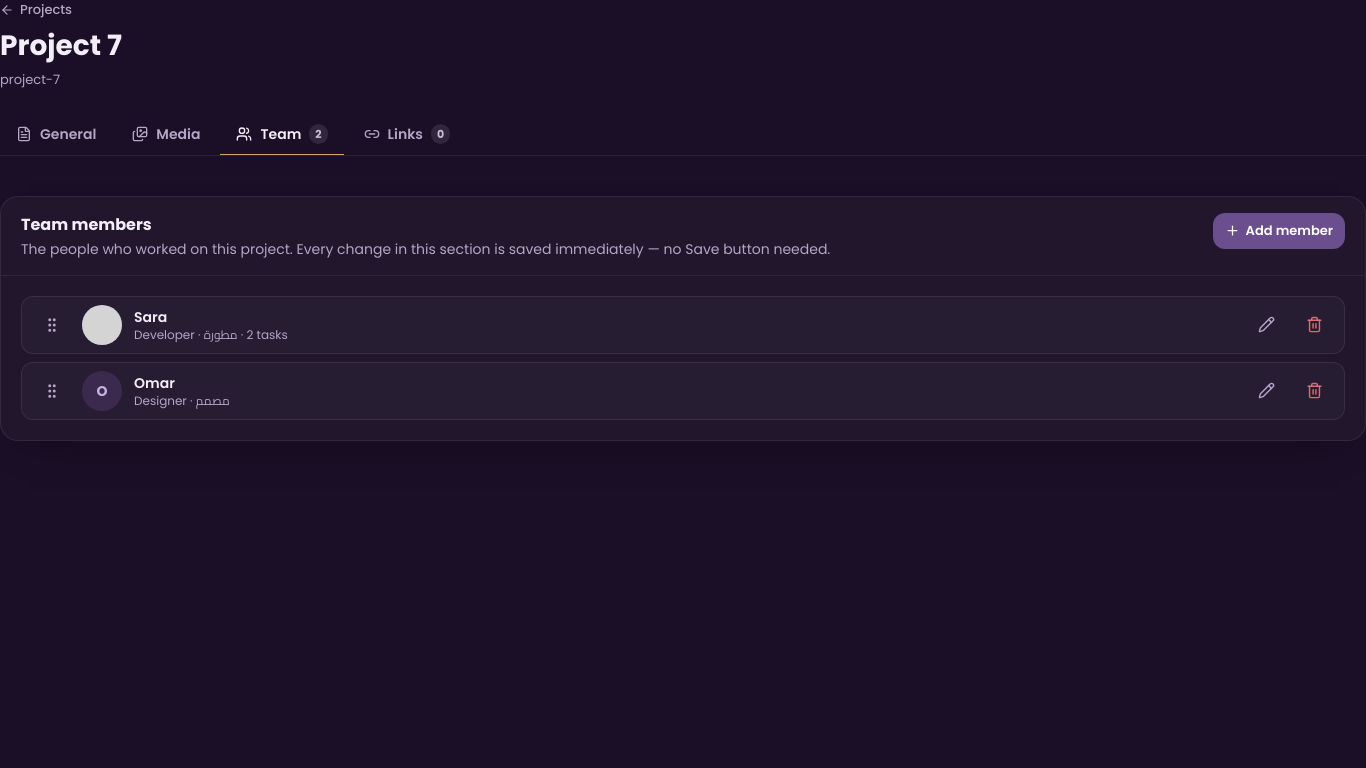
Test: Team tab › add › opens a dialog with the focus on the name, and Cancel / Esc close it without a request
Expected: the list named "Team members" is shown, [21,296,1345,420]
Step 1. Click the button "Add member" → (1279, 231), box [1213,213,1345,249]
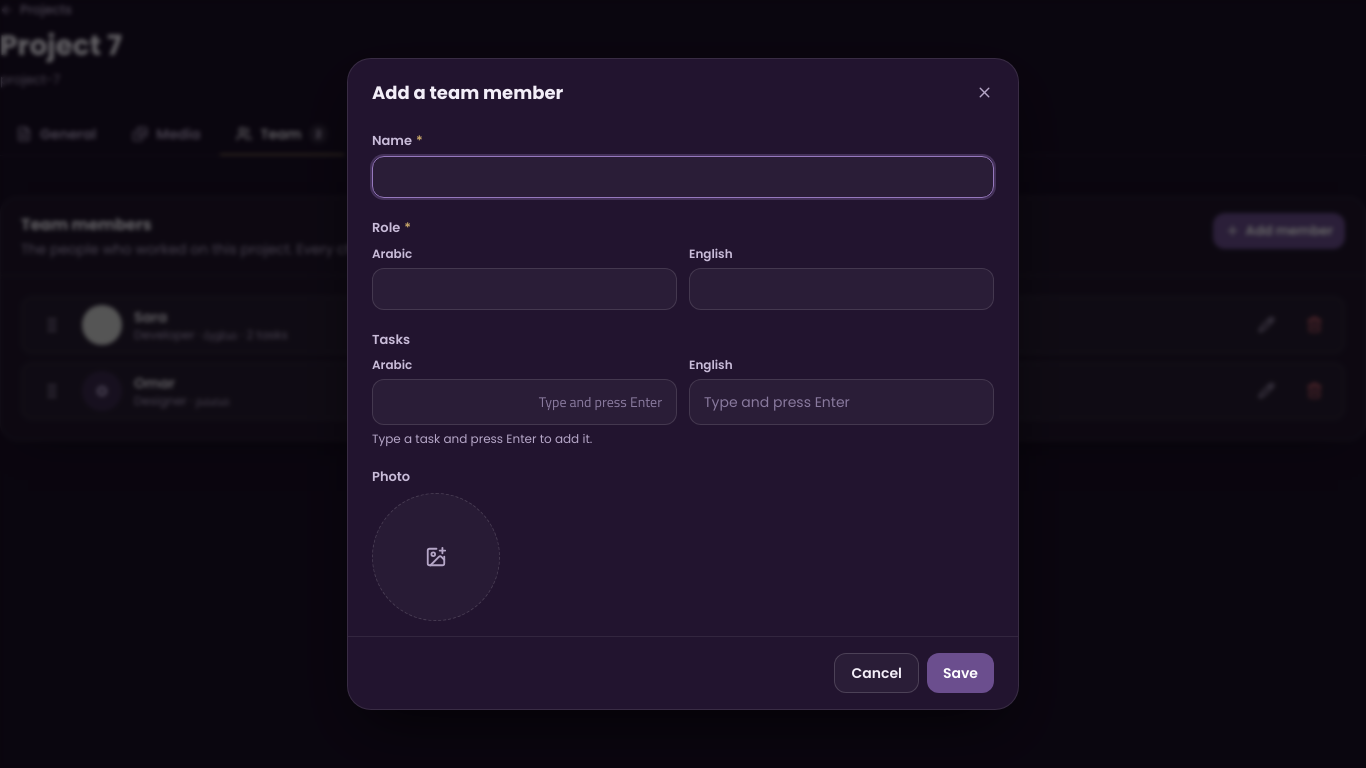
Now the field named "Tasks (Arabic)" is shown, box [383,390,666,414]
Now the element with test id "image-input" is shown, box [372,493,500,621]
Step 2. Click the button "Cancel" → (877, 673), box [834,653,919,693]
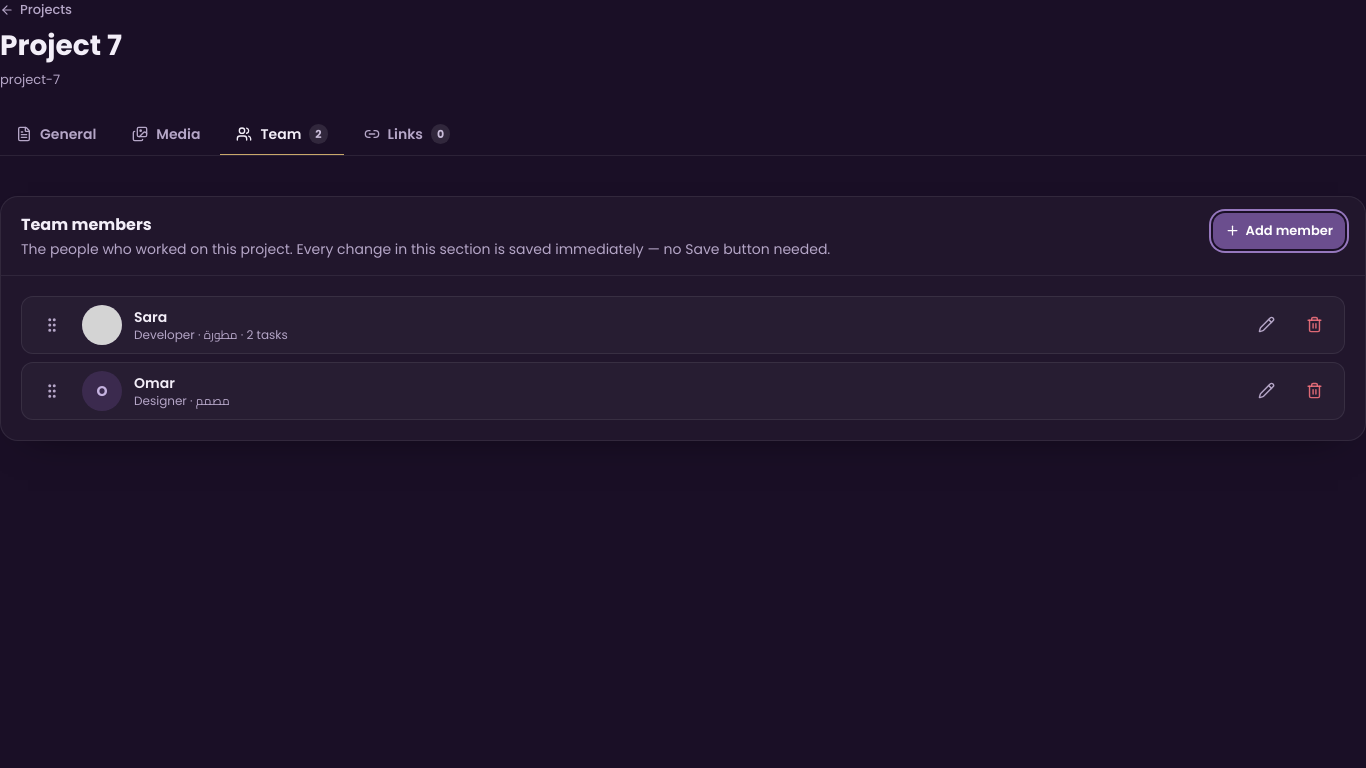
Now the dialog is gone
Step 3. Click the button "Add member" → (1279, 231), box [1213,213,1345,249]
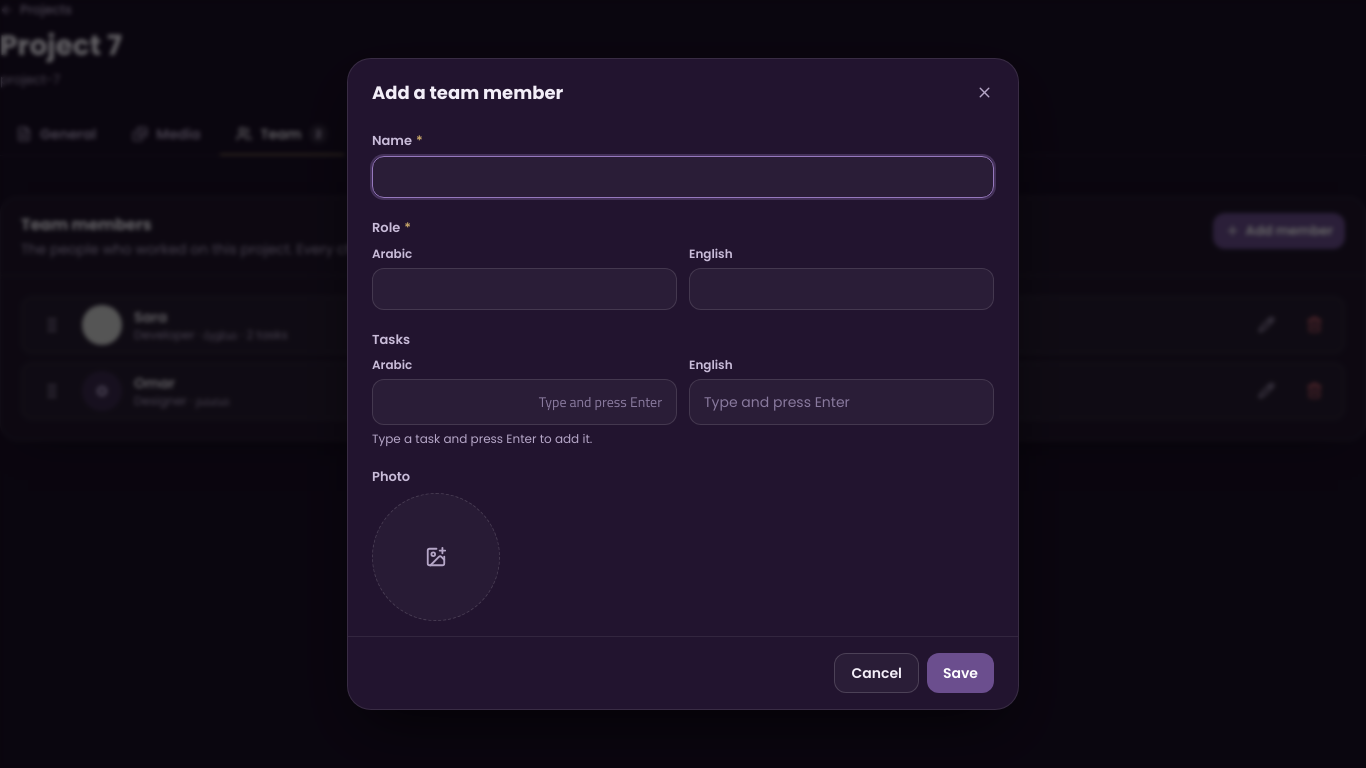
Step 4. Press Escape
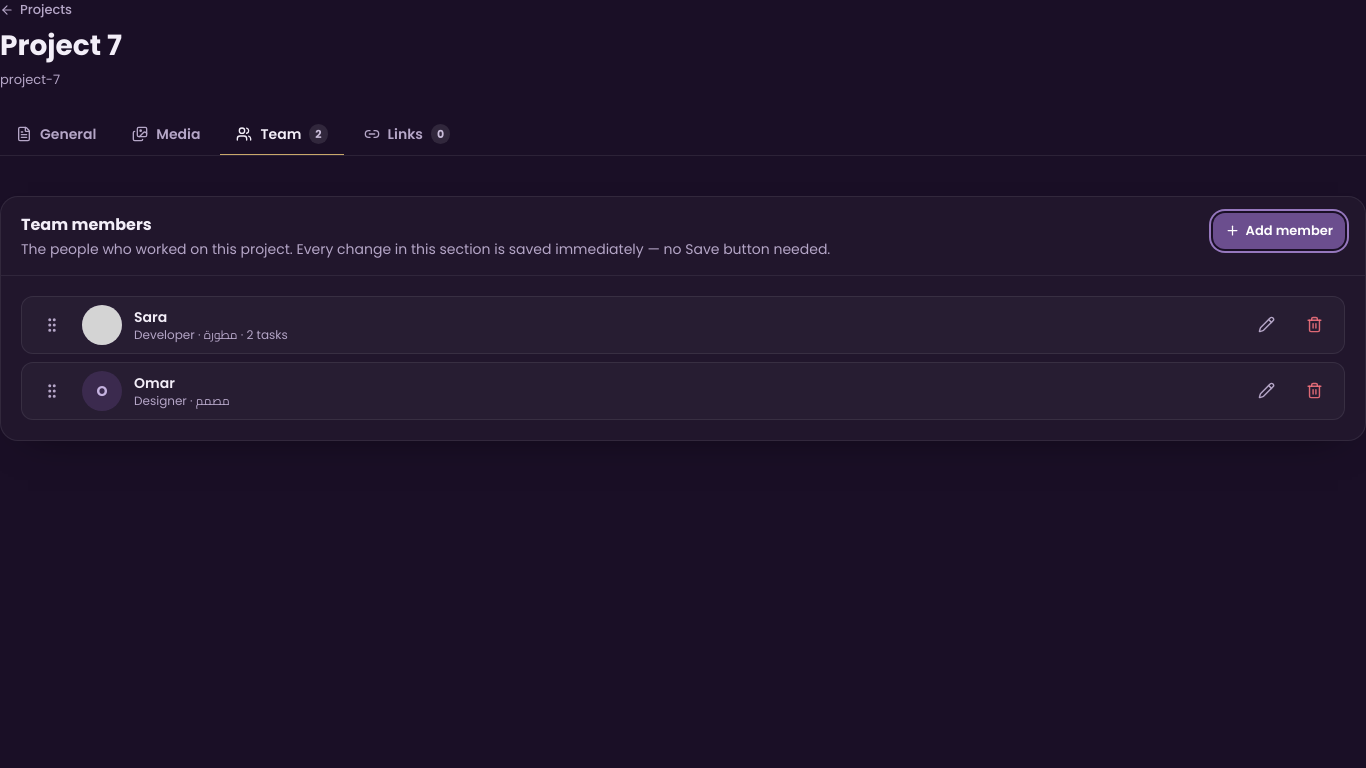
Now the dialog is gone
